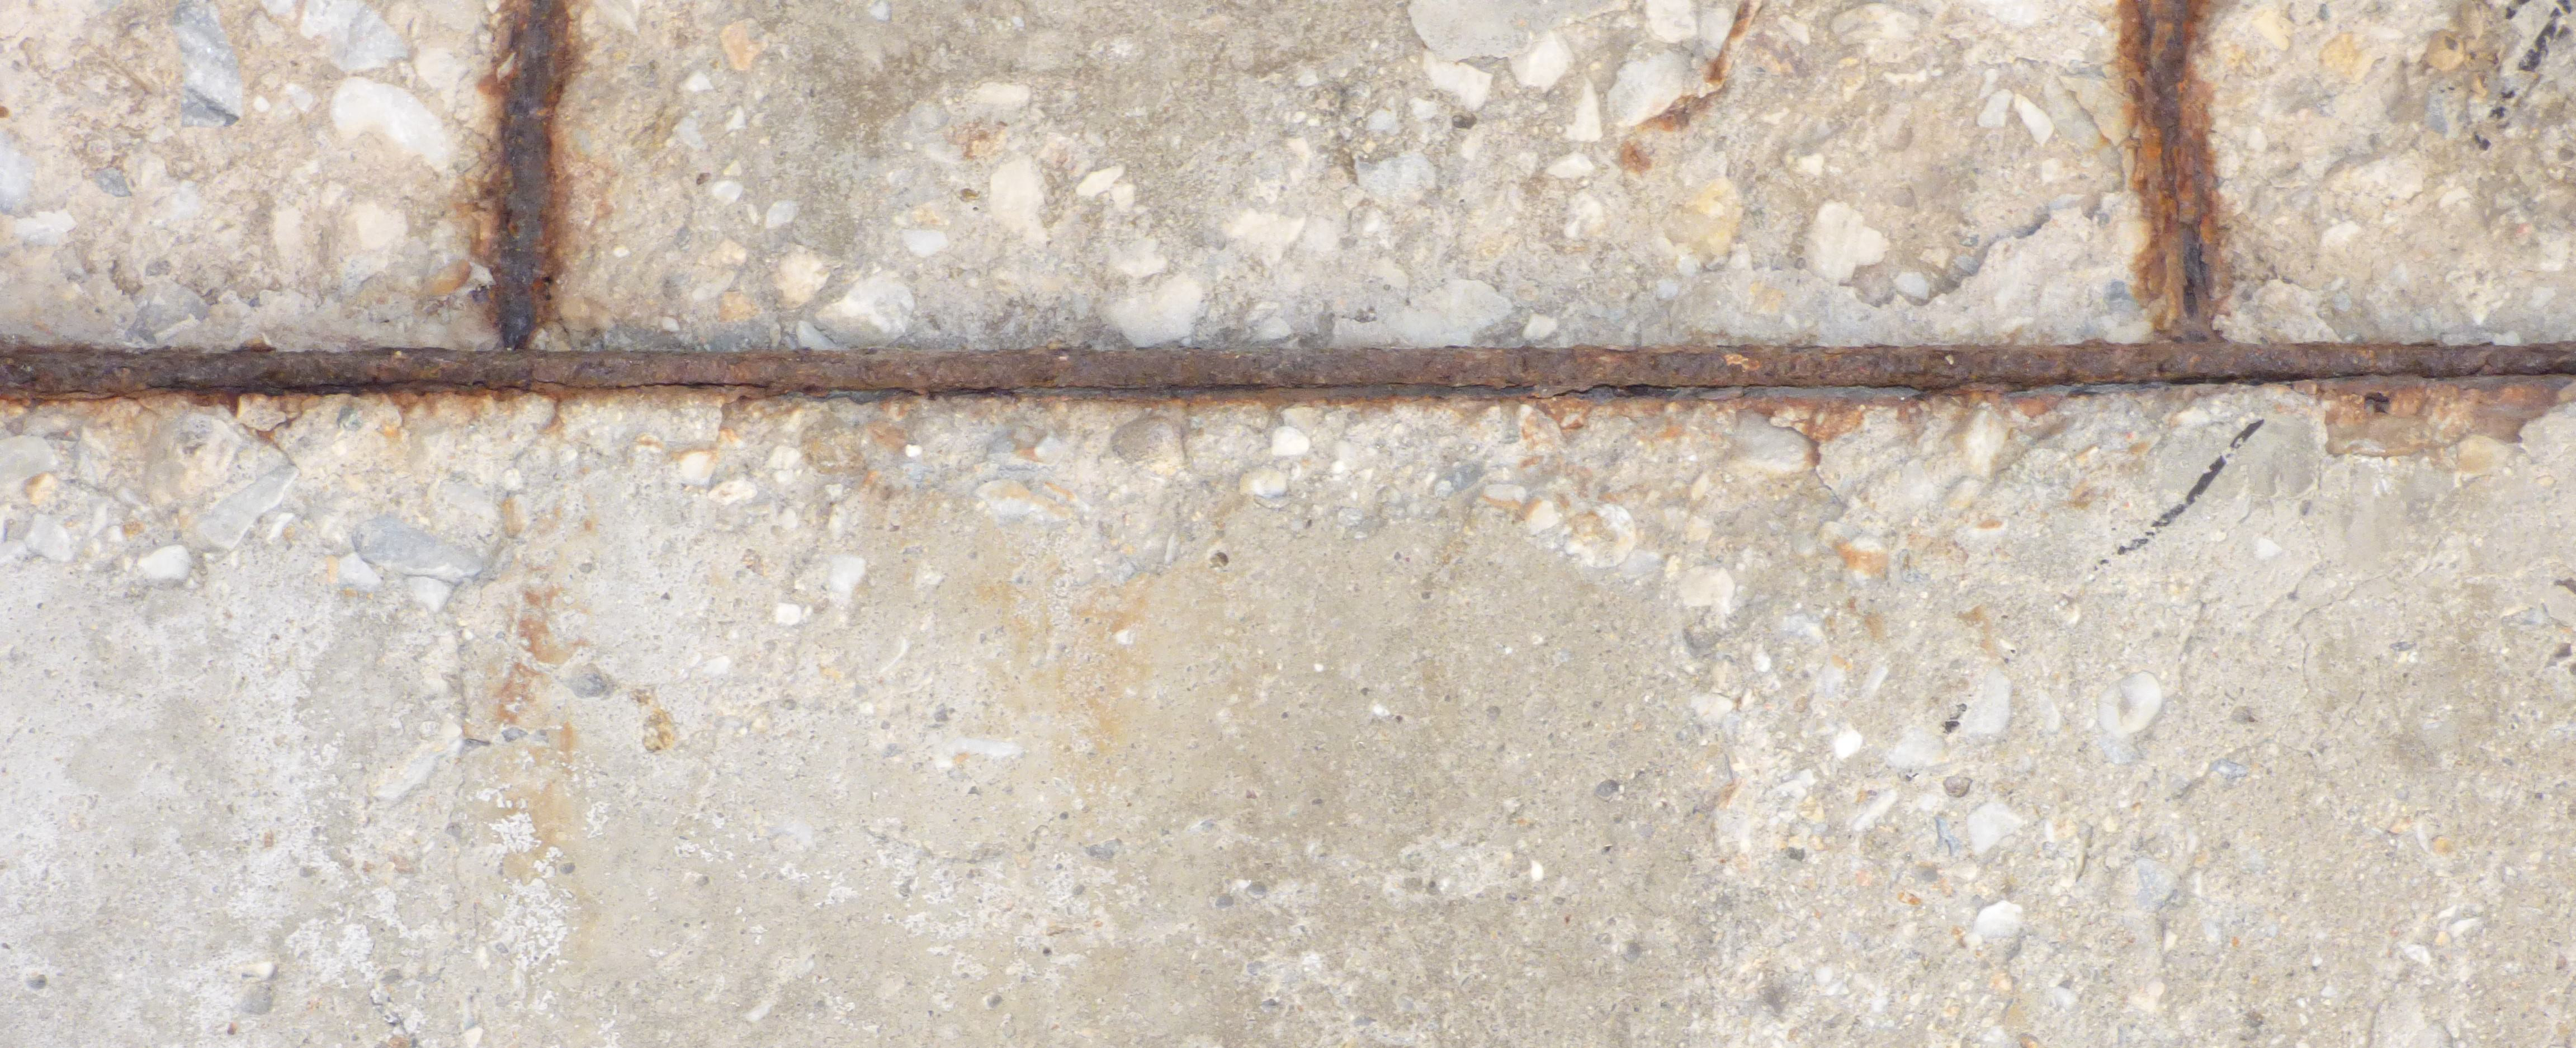Exposed reinforcement: (0, 338, 2576, 406), (2119, 0, 2221, 338), (483, 0, 565, 350)
